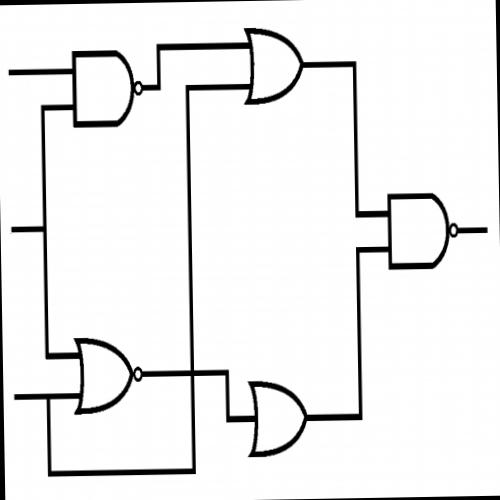nand: (66, 45, 145, 132), (382, 187, 460, 275)
nor: (68, 332, 145, 420)
or: (241, 372, 314, 463), (238, 21, 308, 111)
